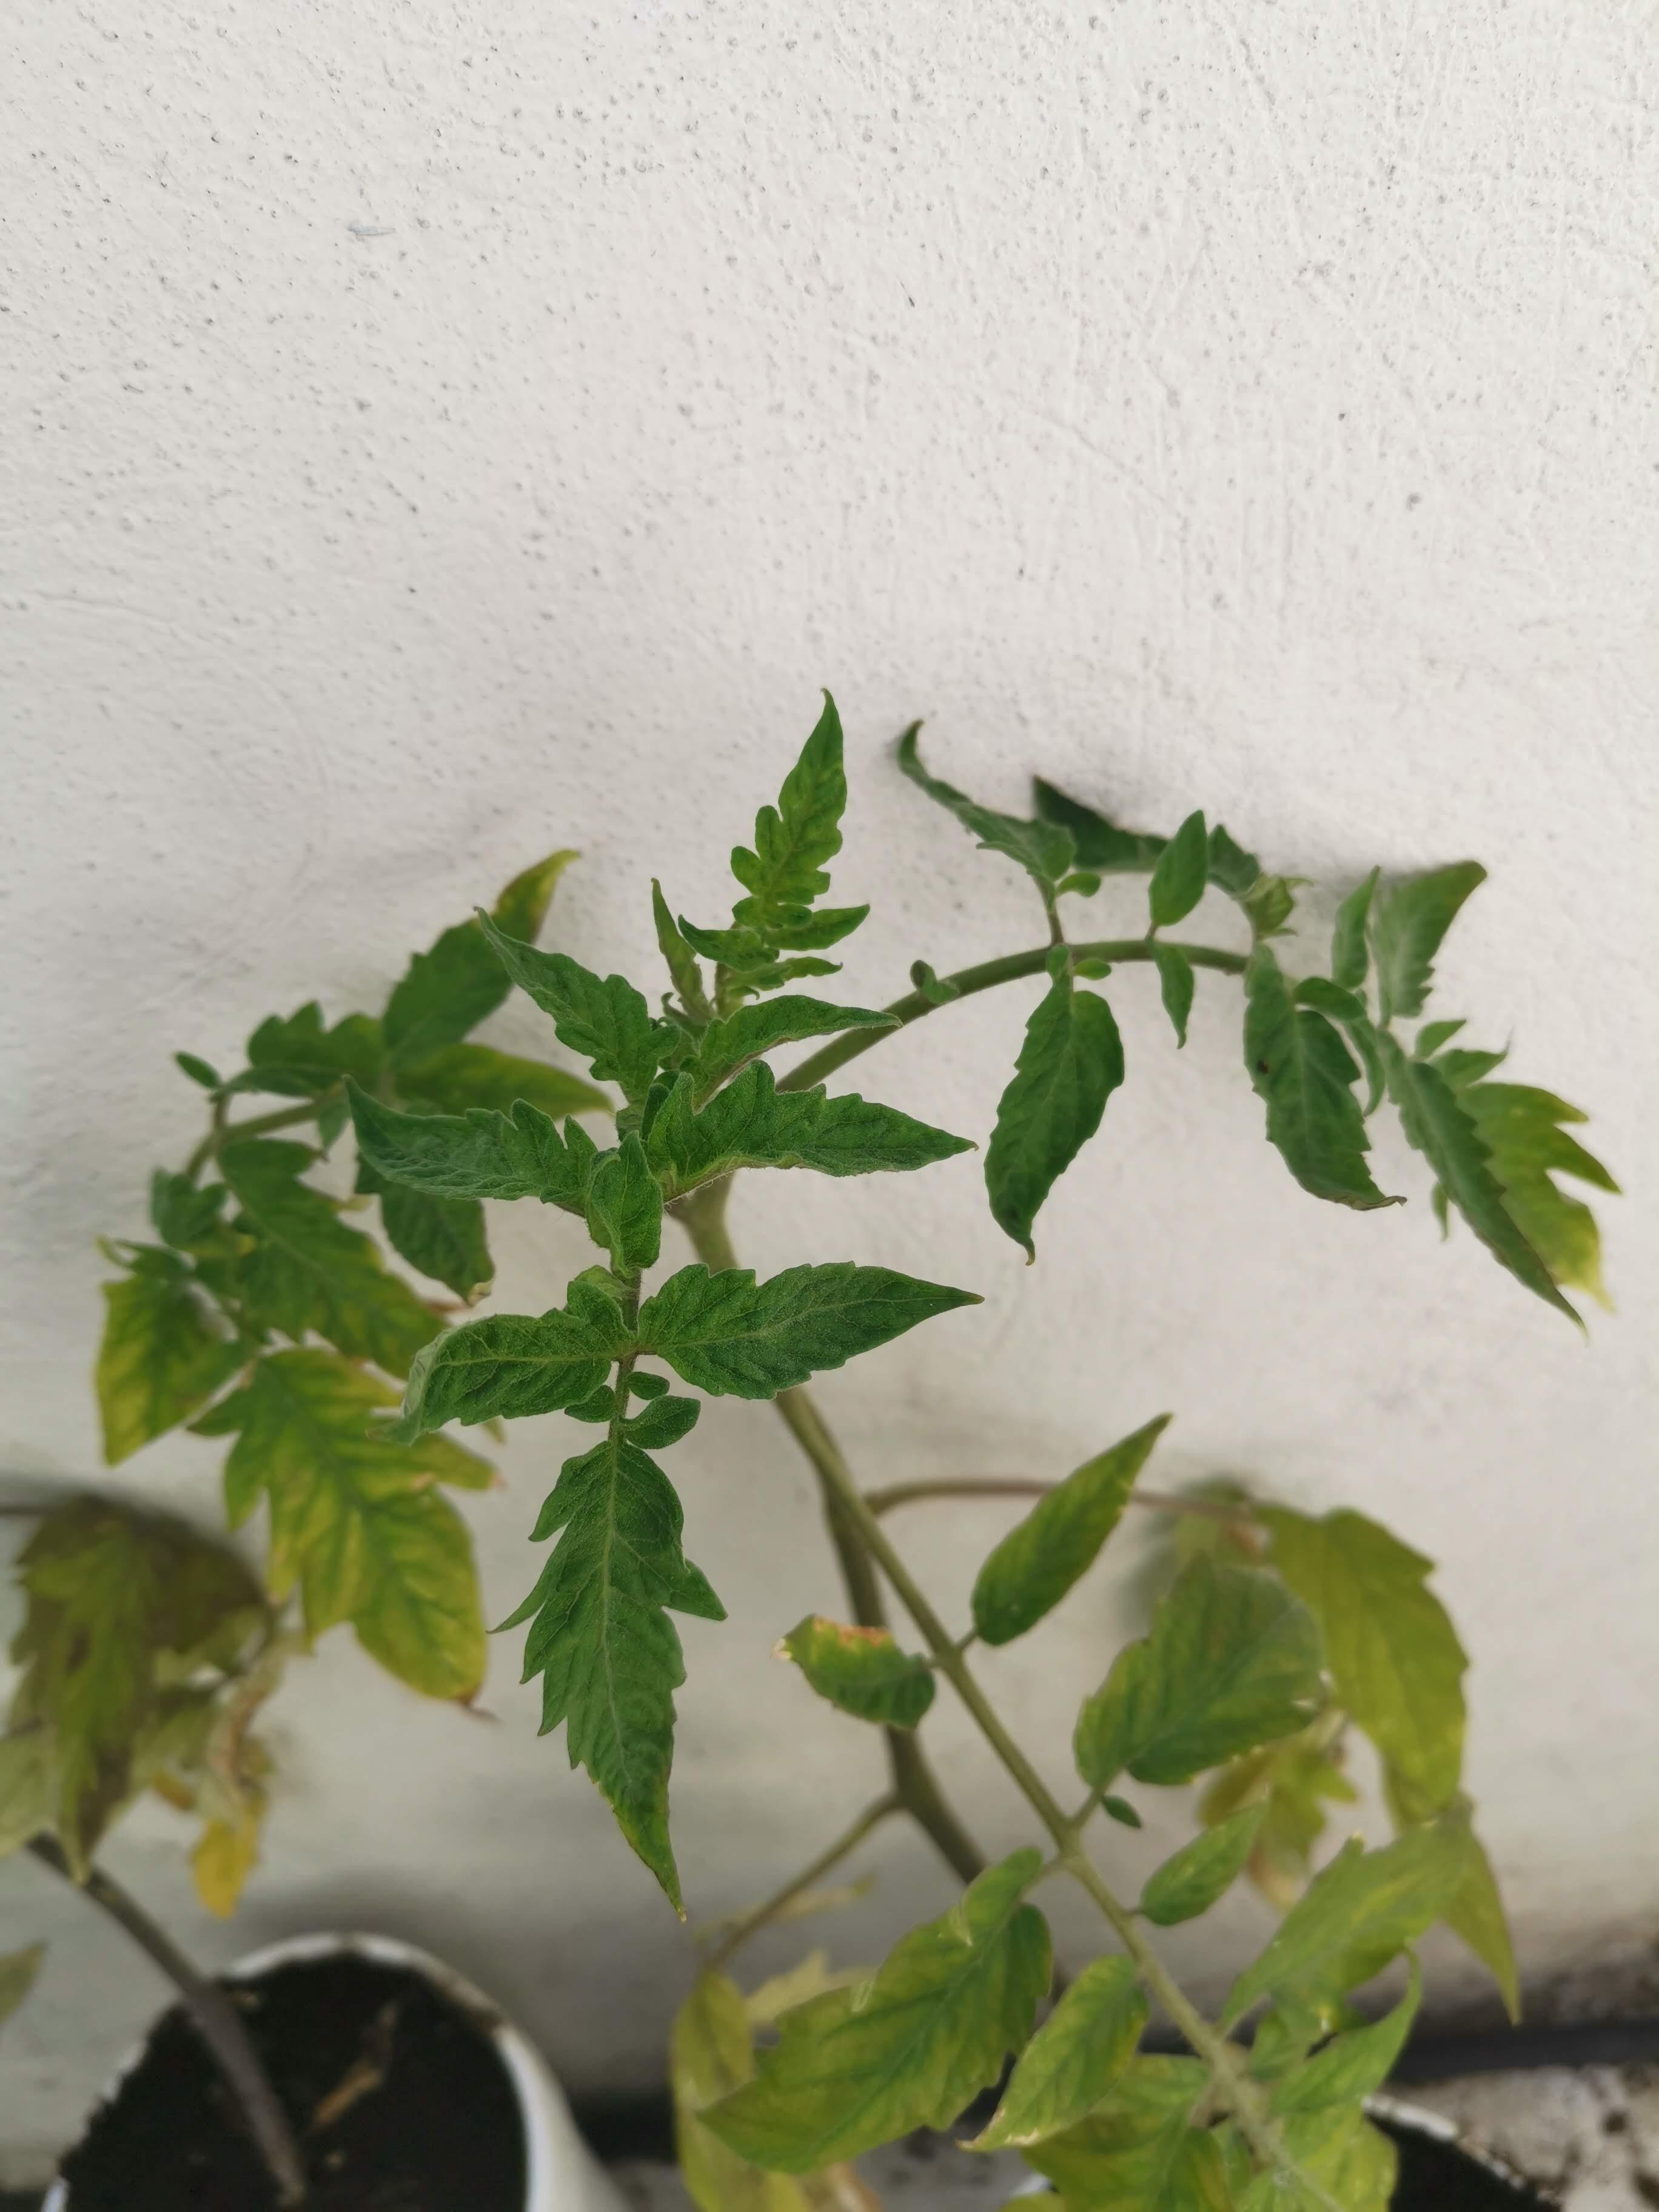Flor rugoso: (681, 995, 904, 1090)
Hoja: (476, 909, 680, 1150), (985, 946, 1124, 1258), (1244, 967, 1389, 1209)
Hoja rugoso: (481, 1439, 730, 1925), (723, 1851, 1051, 2172), (641, 1059, 981, 1204), (636, 1259, 983, 1400), (366, 1280, 633, 1446), (342, 1076, 598, 1216), (730, 691, 847, 937), (779, 1616, 934, 1730), (584, 1130, 662, 1280)
Pedunculo: (775, 1385, 1267, 2139), (882, 948, 1053, 1024), (1103, 942, 1150, 958), (791, 1066, 826, 1087)
